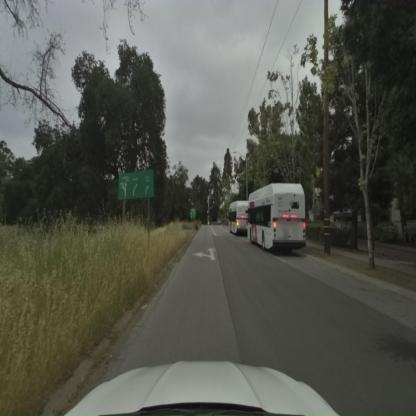bus: (244, 183, 308, 250), (228, 200, 249, 236)
